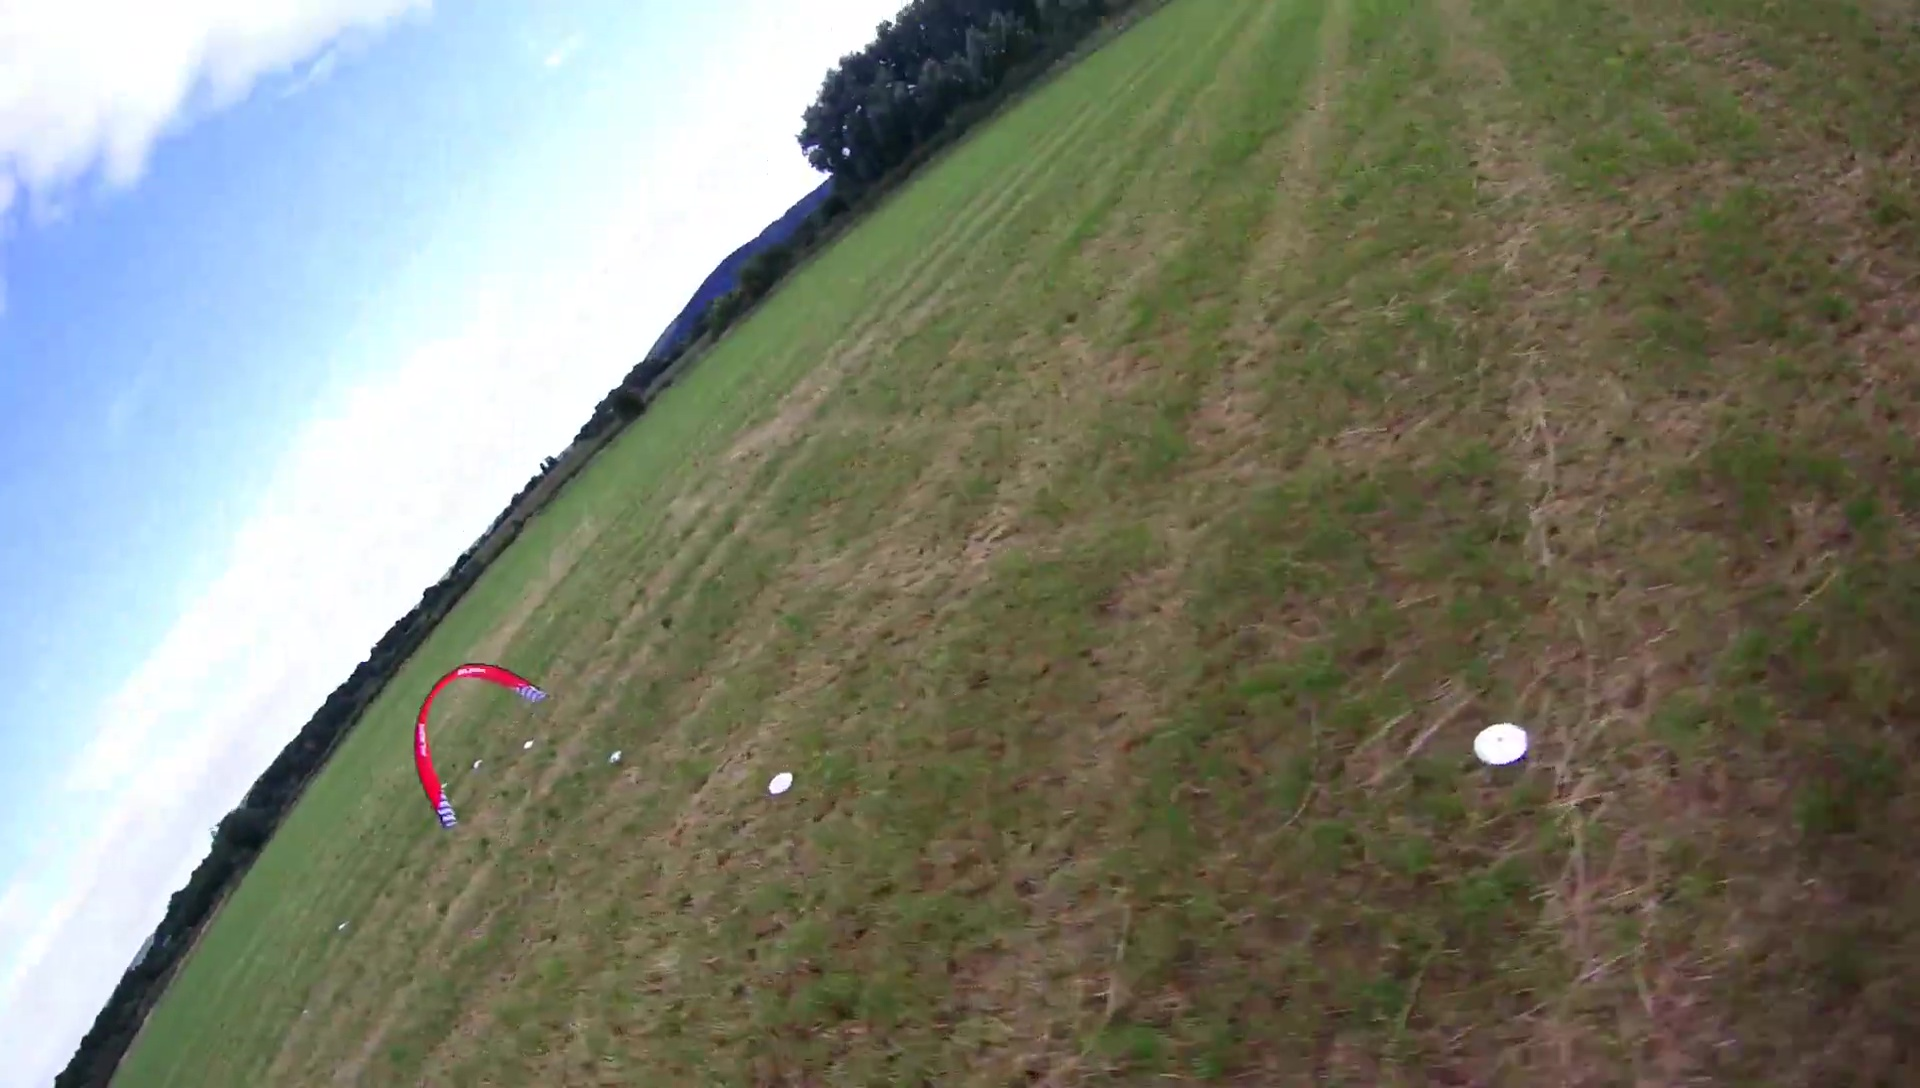gate: (411, 659, 553, 830)
